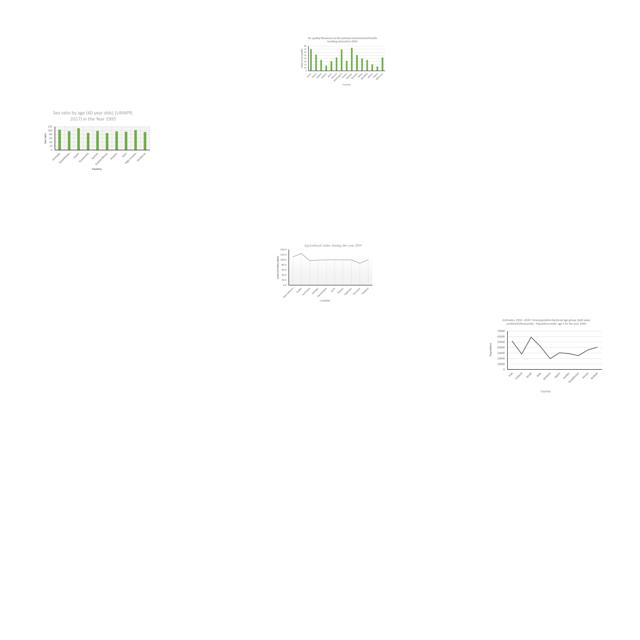Graph: (487, 317, 606, 394), (41, 109, 152, 173), (274, 242, 374, 302), (298, 35, 387, 87)
